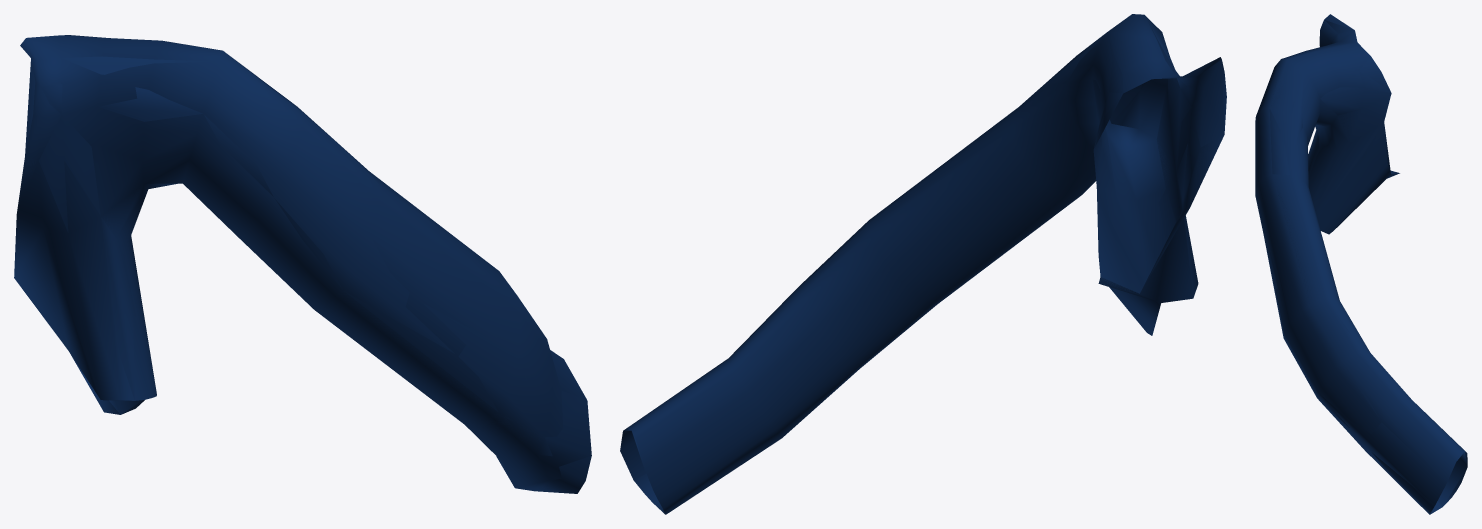
Rendered from L vena subclavia.fbx.
3 renders of one model, left to right at view 1: azimuth 30°, elevation 25°; view 2: azimuth 150°, elevation 25°; view 3: azimuth 270°, elevation 25°, orthographic. The views are drawn at different scales.
Visible parts, largest first — view 1: L vena subclavia, L vena subclavia low; view 2: L vena subclavia, L vena subclavia low; view 3: L vena subclavia, L vena subclavia low.
Part boxes in pixels (box(x1,y1,x2,y2)): L vena subclavia: box(14, 35, 591, 493); L vena subclavia low: box(16, 36, 591, 493); L vena subclavia: box(620, 14, 1226, 514); L vena subclavia low: box(620, 23, 1224, 513); L vena subclavia: box(1255, 14, 1467, 514); L vena subclavia low: box(1257, 20, 1467, 513).
Size of the model in its own units: 3.27 by 3.12 by 1.76.
